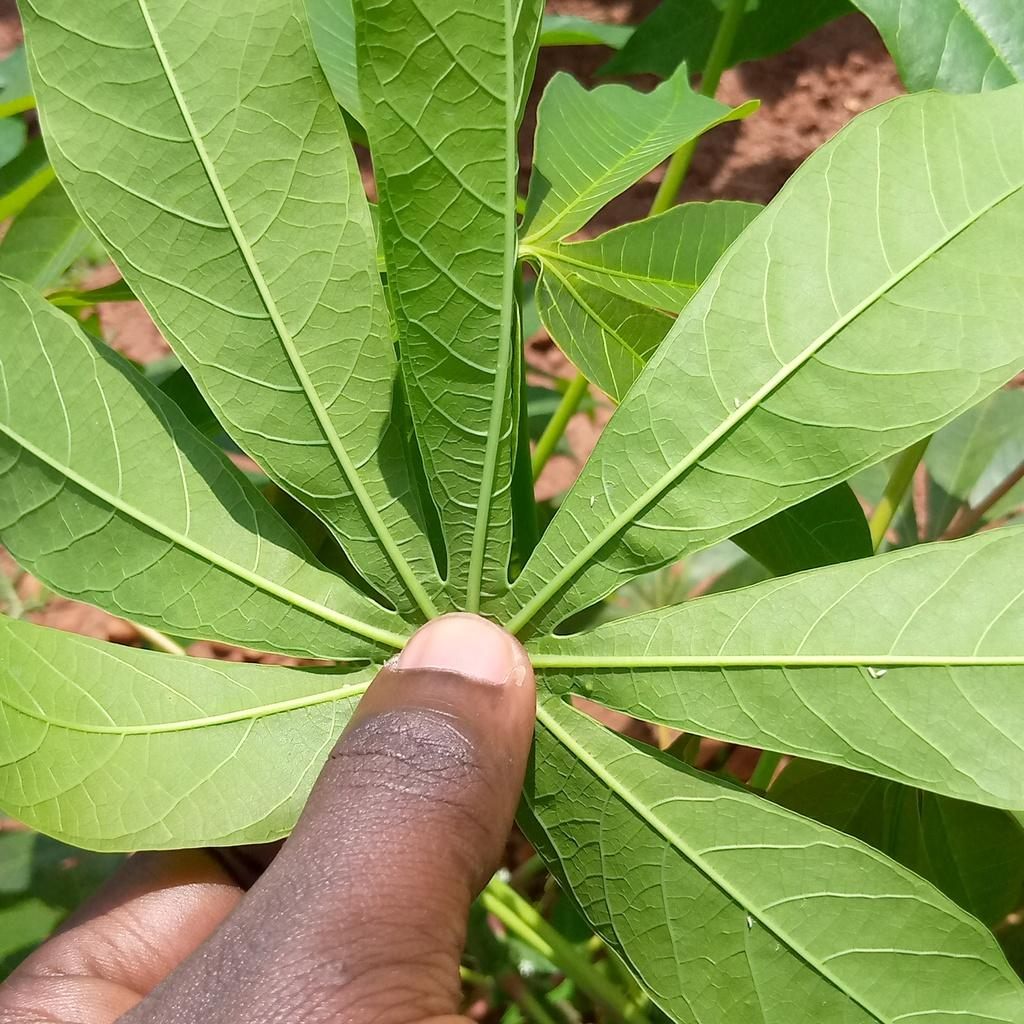adult: (746, 915, 755, 930), (867, 667, 876, 678), (733, 397, 741, 408), (876, 670, 887, 677), (590, 496, 595, 506)
